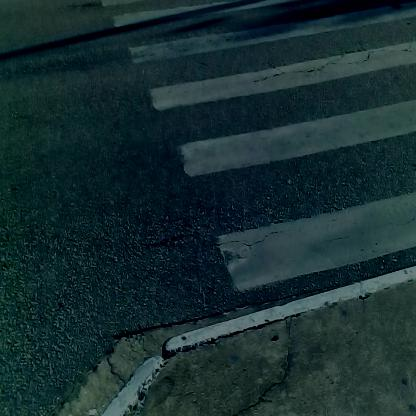crosswalk: (147, 23, 414, 270)
